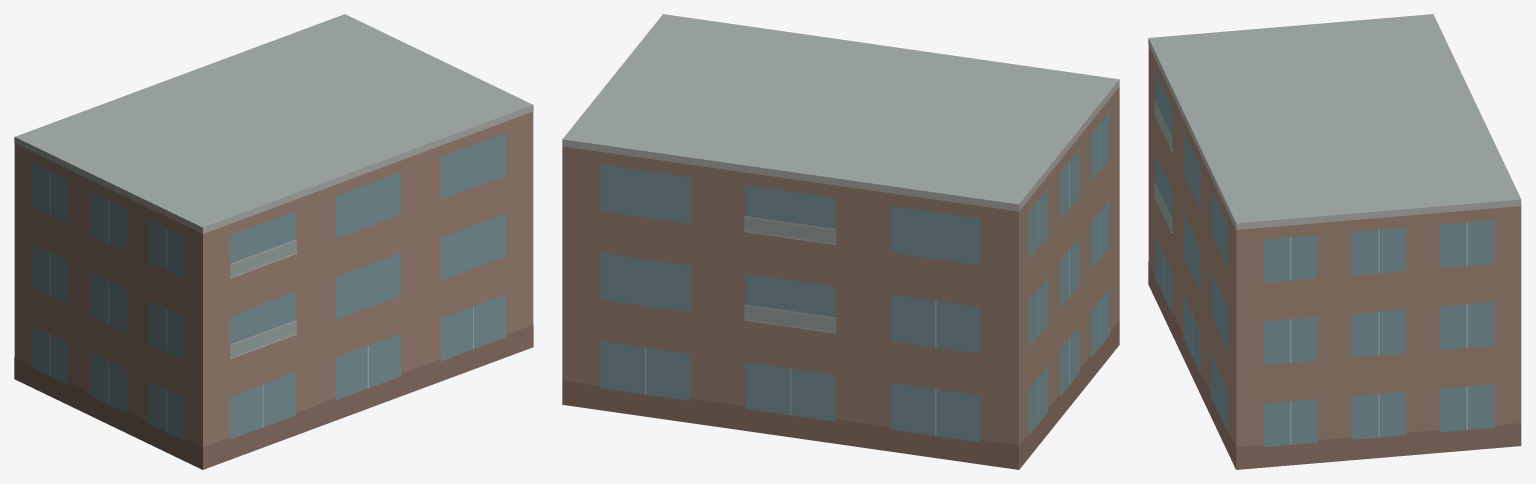
File: survey-upis-32912387.glb
The picture shows the model from 3 angles, left to right: view 1: azimuth 30°, elevation 25°; view 2: azimuth 150°, elevation 25°; view 3: azimuth 270°, elevation 25°; orthographic projection. The views are drawn at different scales.
Parts seen in each view (by area): view 1: survey-upis-32912387.tmp; view 2: survey-upis-32912387.tmp; view 3: survey-upis-32912387.tmp.
Part boxes in pixels (x1,y1,x2,y2): survey-upis-32912387.tmp: (14,14,533,469); survey-upis-32912387.tmp: (562,14,1119,469); survey-upis-32912387.tmp: (1148,14,1521,469).
Size of the model in its own units: 16.69 by 9.15 by 12.56.
